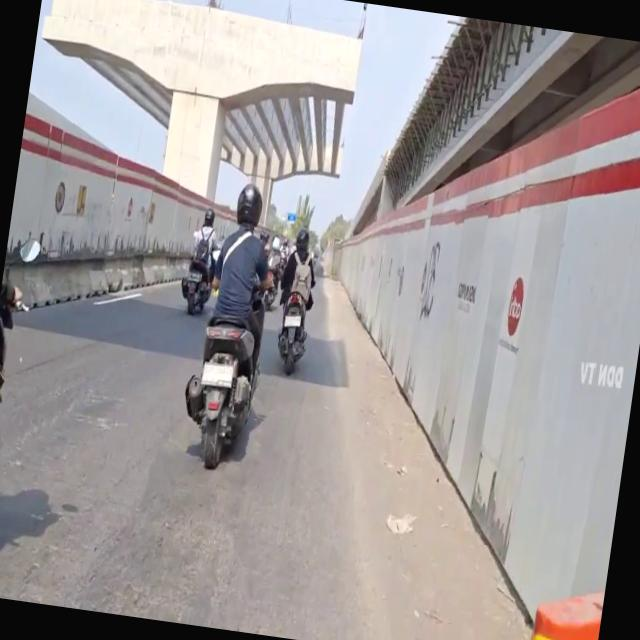WithHelmet: (197, 179, 288, 398), (273, 228, 325, 341), (185, 207, 222, 298)
